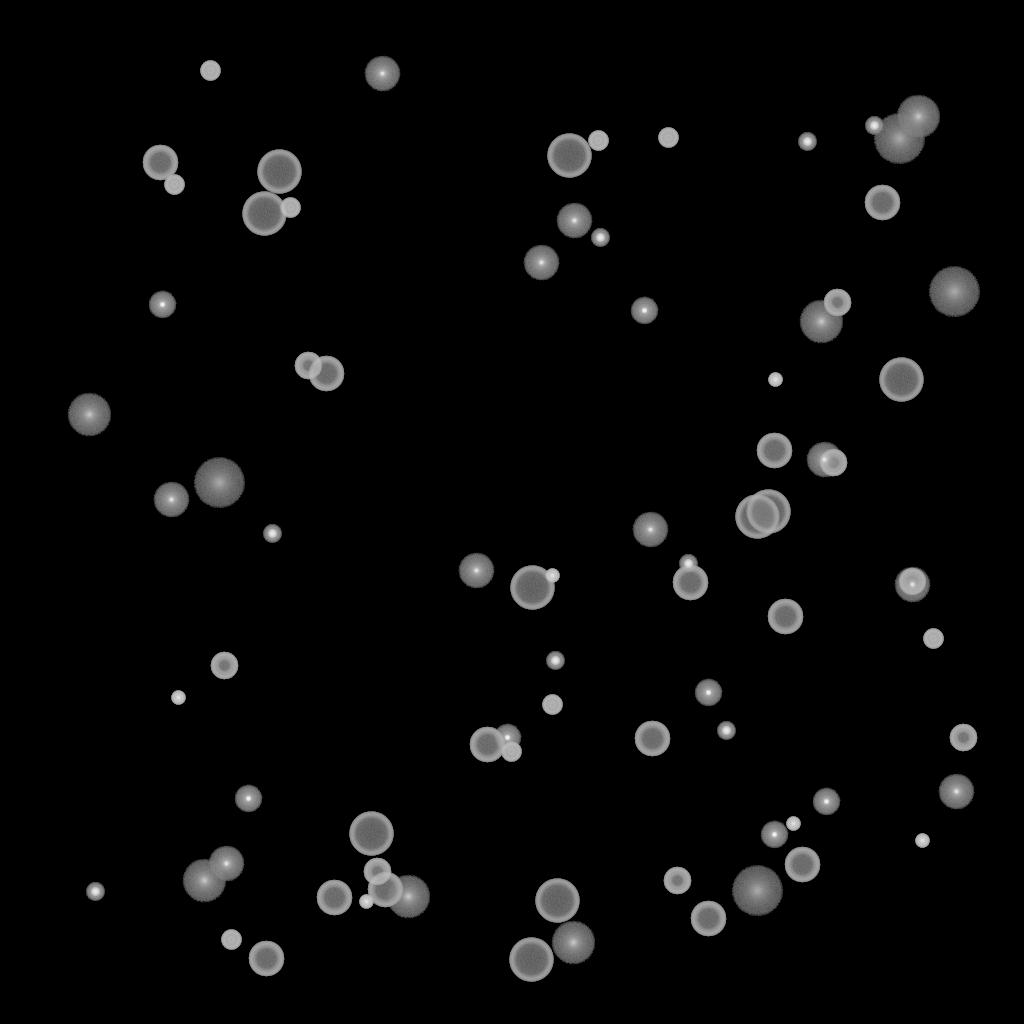depth:-10: (760, 821, 788, 849), (493, 724, 521, 752), (812, 788, 840, 816), (694, 679, 722, 707), (630, 297, 658, 325), (148, 291, 176, 319), (234, 785, 262, 813)
depth:-20: (679, 555, 697, 573), (591, 229, 609, 247), (263, 525, 281, 543), (86, 883, 104, 901), (865, 117, 883, 135), (546, 652, 564, 670), (717, 722, 735, 740), (798, 133, 816, 151)
depth:-30: (915, 834, 929, 848), (359, 895, 373, 909), (171, 691, 185, 705), (545, 569, 559, 583), (768, 373, 782, 387), (786, 817, 800, 831)
depth:-40: (588, 131, 608, 151), (501, 742, 521, 762), (923, 629, 943, 649), (658, 128, 678, 148), (164, 175, 184, 195), (280, 198, 300, 218), (542, 695, 562, 715), (221, 930, 241, 950), (200, 61, 220, 81)
depth:-50: (363, 858, 391, 886), (210, 652, 238, 680), (663, 867, 691, 895), (294, 352, 322, 380), (949, 724, 977, 752), (819, 449, 847, 477), (898, 568, 926, 596), (823, 289, 851, 317)
depth:-60: (864, 185, 900, 221), (308, 356, 344, 392), (690, 901, 726, 937), (784, 847, 820, 883), (316, 880, 352, 916), (767, 599, 803, 635), (367, 872, 403, 908), (672, 565, 708, 601), (469, 727, 505, 763), (142, 145, 178, 181), (756, 433, 792, 469), (248, 941, 284, 977), (634, 721, 670, 757)
depth:-70: (535, 879, 579, 923), (349, 812, 393, 856), (547, 134, 591, 178), (879, 358, 923, 402), (746, 490, 790, 534), (510, 566, 554, 610), (242, 192, 286, 236), (509, 938, 553, 982), (257, 150, 301, 194), (735, 495, 779, 539)
depth:0: (208, 846, 244, 882), (523, 245, 559, 281), (632, 512, 668, 548), (806, 442, 842, 478), (556, 203, 592, 239), (153, 482, 189, 518), (458, 553, 494, 589), (894, 567, 930, 603), (938, 774, 974, 810), (364, 56, 400, 92)
depth:10: (67, 393, 111, 437), (896, 95, 940, 139), (386, 875, 430, 919), (799, 300, 843, 344), (182, 859, 226, 903), (551, 921, 595, 965)
depth:20: (873, 114, 925, 164), (731, 866, 783, 916), (193, 458, 245, 508), (928, 267, 980, 317)
